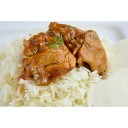briyani: (3, 24, 109, 104)
